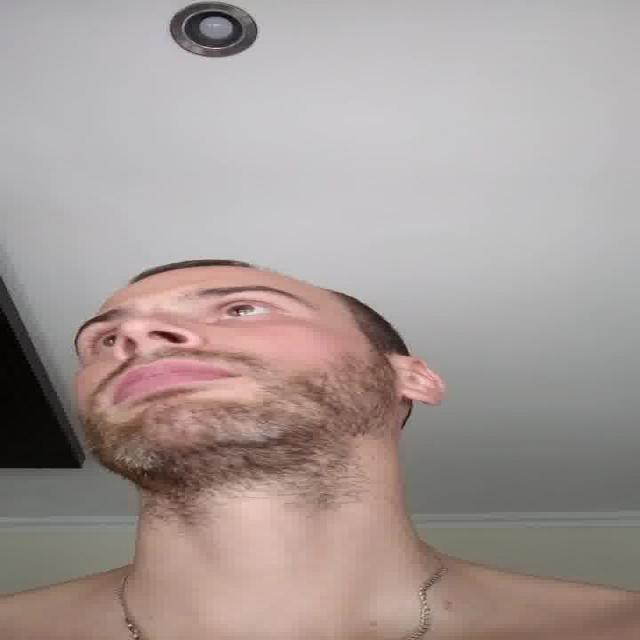earlobe: (398, 355, 447, 406)
